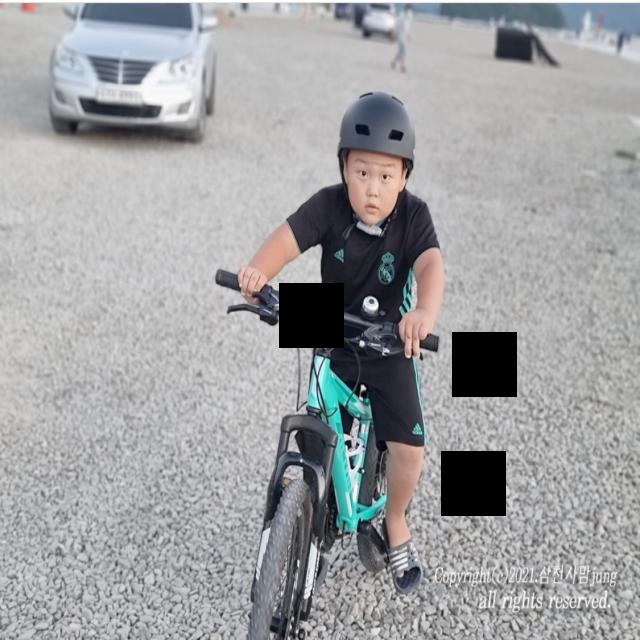Helmet: (339, 92, 418, 225)
